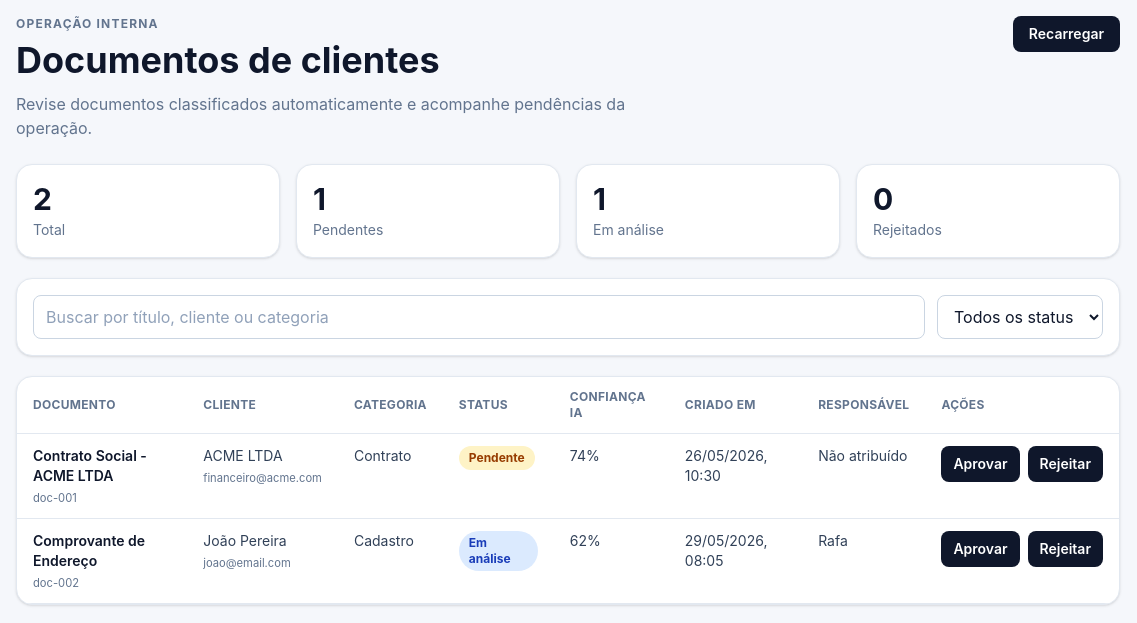
Test case: DocumentsPage › filters documents and shows an empty state when there are no matches
Expected: the text "Contrato Social - ACME LTDA" is shown, [33, 447, 147, 484]
Type "sem resultado" into the field named "Buscar documentos" at (479, 317), box [33, 295, 925, 339]
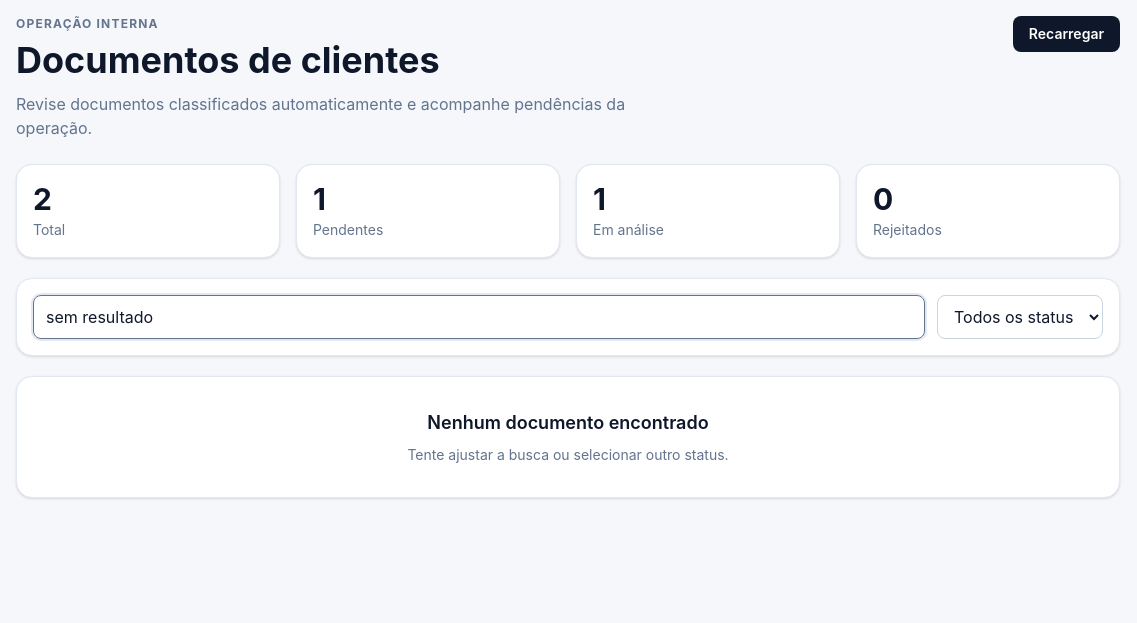
Expected: the heading "Nenhum documento encontrado" is shown, [427, 412, 709, 433]
Expected: the text "Tente ajustar a busca ou selecionar outro status." is shown, [407, 446, 729, 463]
